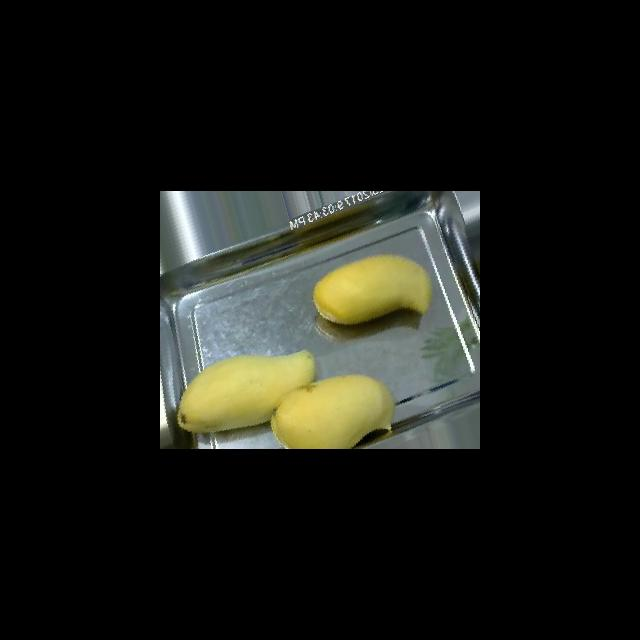mango: (176, 349, 316, 433), (270, 373, 395, 448), (312, 253, 432, 325)
